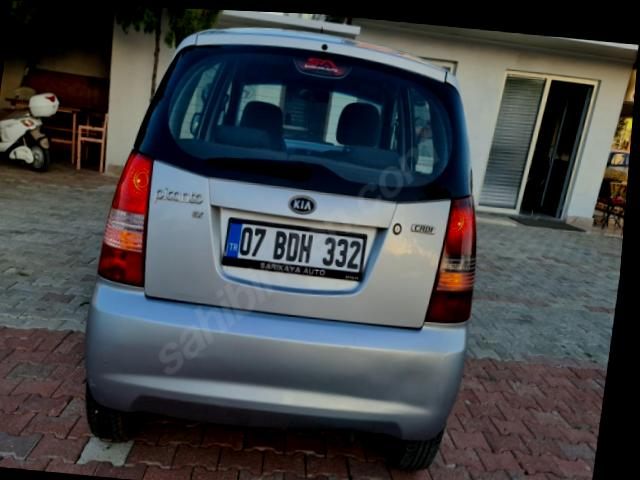plaka: (222, 217, 368, 281)
